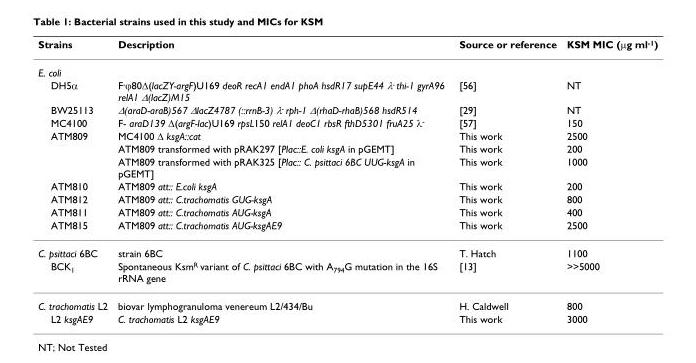table: (37, 36, 657, 324)
table column: (111, 36, 451, 324), (451, 36, 560, 324), (560, 36, 657, 324), (37, 36, 111, 324)
table column header: (37, 36, 657, 57)
table projected row header: (37, 57, 657, 77)
table row: (37, 259, 657, 291), (37, 77, 657, 102), (37, 154, 657, 179), (37, 36, 657, 57), (37, 238, 657, 259), (37, 57, 657, 77), (37, 218, 657, 238), (37, 291, 657, 311), (37, 102, 657, 115), (37, 115, 657, 128), (37, 128, 657, 141), (37, 141, 657, 154), (37, 179, 657, 192), (37, 192, 657, 205), (37, 205, 657, 218), (37, 311, 657, 324)
table spanning cell: (37, 128, 111, 179)
